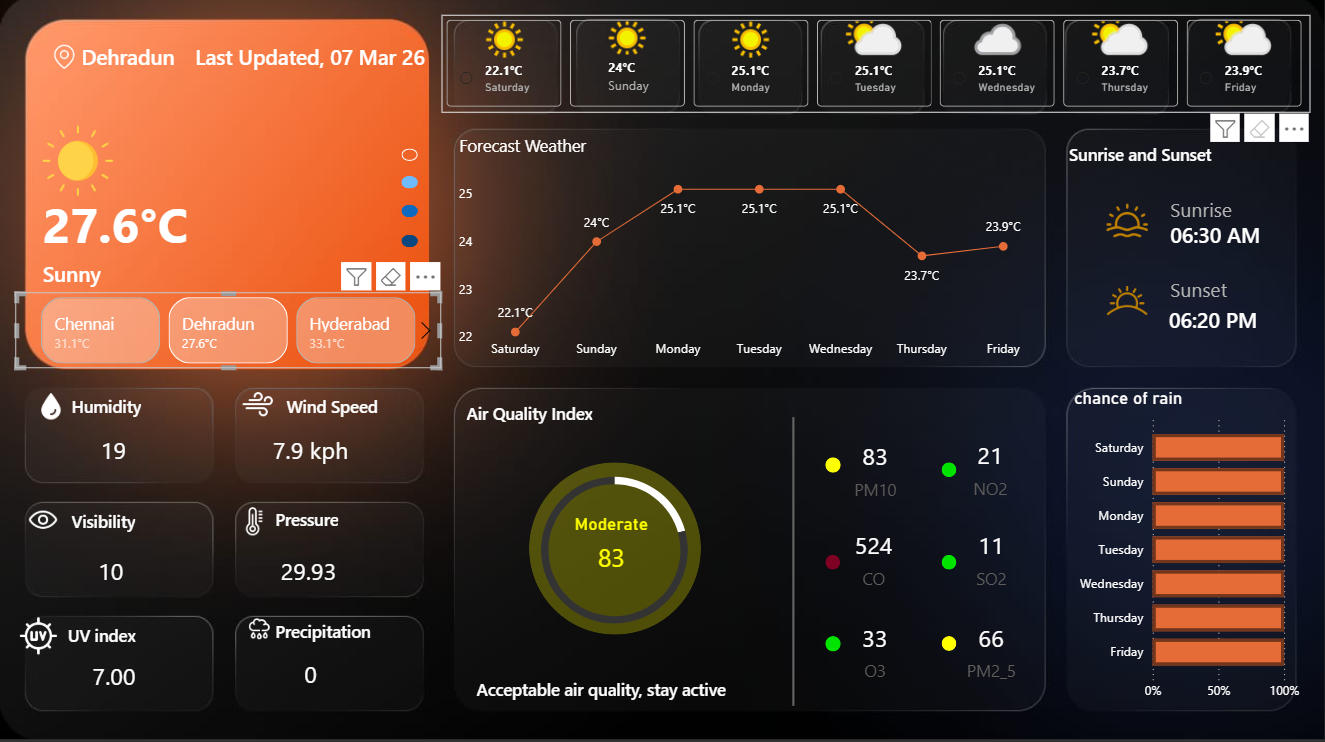

This screenshot's page, from the dashboard's own definition file:
{"tool":"powerbi","page":{"name":"Page 1","canvas":[1280,720],"ordinal":0},"visuals":[{"type":"shape","box":[511.5,450,166,166.5],"z":0},{"type":"advancedSlicerVisual","fields":{"Values":["location.location.name"]},"box":[15.1,285.4,411.7,74.1],"z":1000},{"type":"shape","box":[42.5,185.2,178.4,67.2],"z":2000},{"type":"shape","box":[42.5,249.7,107,35.7],"z":3000},{"type":"shape","box":[79.6,42.5,104.3,32.9],"z":4000},{"type":"shape","box":[189.4,42.5,237.4,32.9],"z":5000},{"type":"image","box":[45.3,46.7,34.3,23.3],"z":6000},{"type":"cardVisual","fields":{"Data":["Min(current.WeatherIcon)"]},"box":[20.6,122.1,111.1,74.1],"z":7000},{"type":"image","box":[19.2,489.9,46.7,31.6],"z":8000},{"type":"shape","box":[70,492.6,93.3,28.8],"z":9000},{"type":"image","box":[30.2,382.8,39.8,27.4],"z":10000},{"type":"shape","box":[70,381.5,89.2,28.8],"z":11000},{"type":"shape","box":[65.9,602.4,93.3,28.8],"z":12000},{"type":"image","box":[11,598.3,54.9,38.4],"z":13000},{"type":"shape","box":[277.2,381.5,118,28.8],"z":14000},{"type":"image","box":[234.6,377.4,31.6,32.9],"z":15000},{"type":"shape","box":[266.2,489.9,118,28.8],"z":16000},{"type":"shape","box":[266.2,598.3,119.4,28.8],"z":17000},{"type":"image","box":[225,494,41.2,27.4],"z":18000},{"type":"image","box":[229.2,598.3,43.9,24.7],"z":19000},{"type":"card","fields":{"Values":["Sum(current.current.humidity)"]},"box":[57.6,419.9,105.7,39.8],"z":20000},{"type":"card","fields":{"Values":["_Measures.Wind Speed"]},"box":[251.1,419.9,100.2,39.8],"z":21000},{"type":"card","fields":{"Values":["Sum(current.current.vis_km)"]},"box":[56.3,539.3,102.9,34.3],"z":22000},{"type":"card","fields":{"Values":["Sum(current.current.pressure_in)"]},"box":[245.6,539.3,105.7,34.3],"z":23000},{"type":"card","fields":{"Values":["Sum(current.current.precip_mm)"]},"box":[251.1,636.7,100.2,38.4],"z":24000},{"type":"card","fields":{"Values":["Sum(current.current.uv)"]},"box":[59,642.2,104.3,32.9],"z":25000},{"type":"advancedSlicerVisual","fields":{"Values":["forecast_day.day_name"]},"box":[426.8,17.8,838.4,94.7],"z":26000},{"type":"lineChart","title":"Forecast Weather","fields":{"Y":["Sum(forecast_day.forecast.forecastday.day.avgtemp_c)"],"Category":["forecast_day.day_name"]},"box":[439.1,133.1,566.7,226.4],"z":27000},{"type":"shape","box":[1033.3,133.1,216.8,39.8],"z":28000},{"type":"shape","box":[1130.7,214.1,119.4,32.9],"z":29000},{"type":"shape","box":[1129.3,296.4,119.4,28.8],"z":30000},{"type":"shape","box":[1130.7,190.7,118,28.8],"z":31000},{"type":"shape","box":[1130.7,267.6,118,28.8],"z":32000},{"type":"image","box":[1069,196.2,39.8,39.8],"z":33000},{"type":"image","box":[1060.7,267.6,56.3,52.1],"z":34000},{"type":"hundredPercentStackedBarChart","title":"chance of rain ","fields":{"Y":["Sum(forecast_day.forecast.forecastday.day.daily_chance_of_rain)","current.left_value_rain"],"Category":["forecast_day.day_name"]},"box":[1033.3,377.4,227.8,311.5],"z":35000},{"type":"shape","box":[451.5,382.8,216.8,39.8],"z":36000},{"type":"card","fields":{"Values":["Sum(current.current.air_quality.pm10)"]},"box":[797.2,422.9,96.9,69],"z":37000},{"type":"card","fields":{"Values":["Sum(current.current.air_quality.so2)"]},"box":[910.2,508.4,96.5,69.1],"z":38000},{"type":"card","fields":{"Values":["Sum(current.current.air_quality.pm2_5)"]},"box":[910.2,597.7,96.5,69.1],"z":39000},{"type":"card","fields":{"Values":["Sum(current.current.air_quality.no2)"]},"box":[908.8,421.4,96.9,69],"z":40000},{"type":"card","fields":{"Values":["Sum(current.current.air_quality.co)"]},"box":[796.4,508.4,96.5,69.1],"z":41000},{"type":"card","fields":{"Values":["Sum(current.current.air_quality.o3)"]},"box":[797.8,597.7,96.5,69.1],"z":42000},{"type":"shape","box":[797,445.6,15,15],"z":43000},{"type":"shape","box":[797.5,617.7,15,15],"z":44000},{"type":"shape","box":[797.5,539.3,14.5,14.5],"z":45000},{"type":"shape","box":[909.7,450,14.5,14.5],"z":46000},{"type":"shape","box":[909.7,539.3,14.5,14.5],"z":47000},{"type":"shape","box":[909.7,617.7,14.5,14.5],"z":48000},{"type":"shape","box":[737.1,406.6,59.1,278.7],"z":49000},{"type":"card","fields":{"Values":["Sum(current.current.air_quality.pm10)"]},"box":[542.9,499.5,96.5,68.8],"z":50000},{"type":"donutChart","fields":{"Y":["Sum(current.current.air_quality.pm10)","measure.left_value_pm10"]},"box":[458.4,441.6,271.4,187],"z":51000},{"type":"shape","box":[460.9,649.1,292,39.8],"z":52000},{"type":"shape","box":[388.5,147.2,15.7,12.1],"z":53000},{"type":"shape","box":[388.5,173.7,15.7,12.1],"z":54000},{"type":"shape","box":[388.5,201.5,15.7,12.1],"z":55000},{"type":"shape","box":[388.5,230.4,15.7,12.1],"z":56000}]}

Visuals, with their boxes in screenshot pixels (x1, y1, x2, y2), scaled from the page's 1280x720 canvas onto the 1325x742 screenshot:
shape: [x1=529, y1=464, x2=701, y2=635]
advancedSlicerVisual - location.location.name: [x1=16, y1=294, x2=442, y2=370]
shape: [x1=44, y1=191, x2=229, y2=260]
shape: [x1=44, y1=257, x2=155, y2=294]
shape: [x1=82, y1=44, x2=190, y2=78]
shape: [x1=196, y1=44, x2=442, y2=78]
image: [x1=47, y1=48, x2=82, y2=72]
cardVisual - Min(current.WeatherIcon): [x1=21, y1=126, x2=136, y2=202]
image: [x1=20, y1=505, x2=68, y2=537]
shape: [x1=72, y1=508, x2=169, y2=537]
image: [x1=31, y1=394, x2=72, y2=423]
shape: [x1=72, y1=393, x2=165, y2=423]
shape: [x1=68, y1=621, x2=165, y2=650]
image: [x1=11, y1=617, x2=68, y2=656]
shape: [x1=287, y1=393, x2=409, y2=423]
image: [x1=243, y1=389, x2=276, y2=423]
shape: [x1=276, y1=505, x2=398, y2=535]
shape: [x1=276, y1=617, x2=399, y2=646]
image: [x1=233, y1=509, x2=276, y2=537]
image: [x1=237, y1=617, x2=283, y2=642]
card - Sum(current.current.humidity): [x1=60, y1=433, x2=169, y2=474]
card - _Measures.Wind Speed: [x1=260, y1=433, x2=364, y2=474]
card - Sum(current.current.vis_km): [x1=58, y1=556, x2=165, y2=591]
card - Sum(current.current.pressure_in): [x1=254, y1=556, x2=364, y2=591]
card - Sum(current.current.precip_mm): [x1=260, y1=656, x2=364, y2=696]
card - Sum(current.current.uv): [x1=61, y1=662, x2=169, y2=696]
advancedSlicerVisual - forecast_day.day_name: [x1=442, y1=18, x2=1310, y2=116]
"Forecast Weather" lineChart: [x1=455, y1=137, x2=1041, y2=370]
shape: [x1=1070, y1=137, x2=1294, y2=178]
shape: [x1=1170, y1=221, x2=1294, y2=255]
shape: [x1=1169, y1=305, x2=1293, y2=335]
shape: [x1=1170, y1=197, x2=1293, y2=226]
shape: [x1=1170, y1=276, x2=1293, y2=305]
image: [x1=1107, y1=202, x2=1148, y2=243]
image: [x1=1098, y1=276, x2=1156, y2=329]
"chance of rain " hundredPercentStackedBarChart: [x1=1070, y1=389, x2=1305, y2=710]
shape: [x1=467, y1=394, x2=692, y2=436]
card - Sum(current.current.air_quality.pm10): [x1=825, y1=436, x2=926, y2=507]
card - Sum(current.current.air_quality.so2): [x1=942, y1=524, x2=1042, y2=595]
card - Sum(current.current.air_quality.pm2_5): [x1=942, y1=616, x2=1042, y2=687]
card - Sum(current.current.air_quality.no2): [x1=941, y1=434, x2=1041, y2=505]
card - Sum(current.current.air_quality.co): [x1=824, y1=524, x2=924, y2=595]
card - Sum(current.current.air_quality.o3): [x1=826, y1=616, x2=926, y2=687]
shape: [x1=825, y1=459, x2=841, y2=475]
shape: [x1=826, y1=637, x2=841, y2=652]
shape: [x1=826, y1=556, x2=841, y2=571]
shape: [x1=942, y1=464, x2=957, y2=479]
shape: [x1=942, y1=556, x2=957, y2=571]
shape: [x1=942, y1=637, x2=957, y2=652]
shape: [x1=763, y1=419, x2=824, y2=706]
card - Sum(current.current.air_quality.pm10): [x1=562, y1=515, x2=662, y2=586]
donutChart - Sum(current.current.air_quality.pm10) x measure.left_value_pm10: [x1=475, y1=455, x2=755, y2=648]
shape: [x1=477, y1=669, x2=779, y2=710]
shape: [x1=402, y1=152, x2=418, y2=164]
shape: [x1=402, y1=179, x2=418, y2=191]
shape: [x1=402, y1=208, x2=418, y2=220]
shape: [x1=402, y1=237, x2=418, y2=250]
